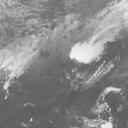cyclone: (69, 42, 104, 64)
